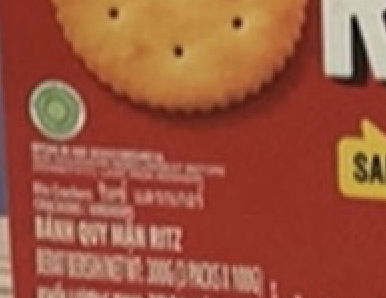halal: (39, 95, 76, 129)
